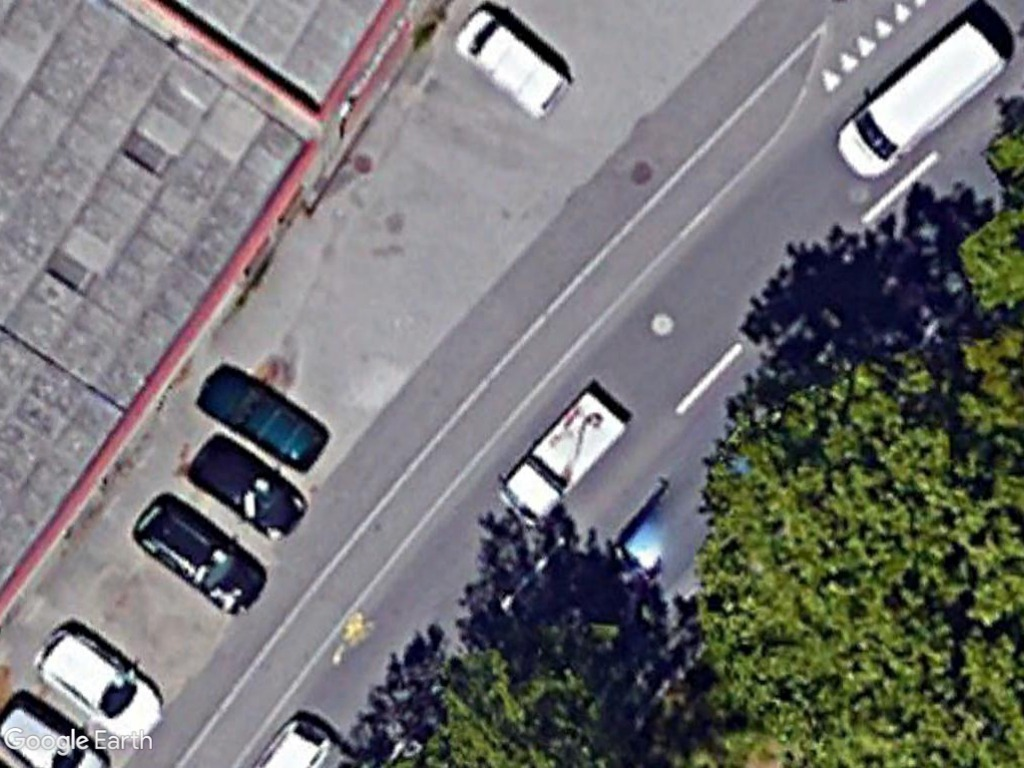car: (123, 492, 270, 624), (26, 621, 169, 747), (183, 429, 311, 540), (198, 363, 329, 471)
others: (499, 388, 628, 524)
van: (831, 19, 1012, 183), (451, 5, 572, 126)
